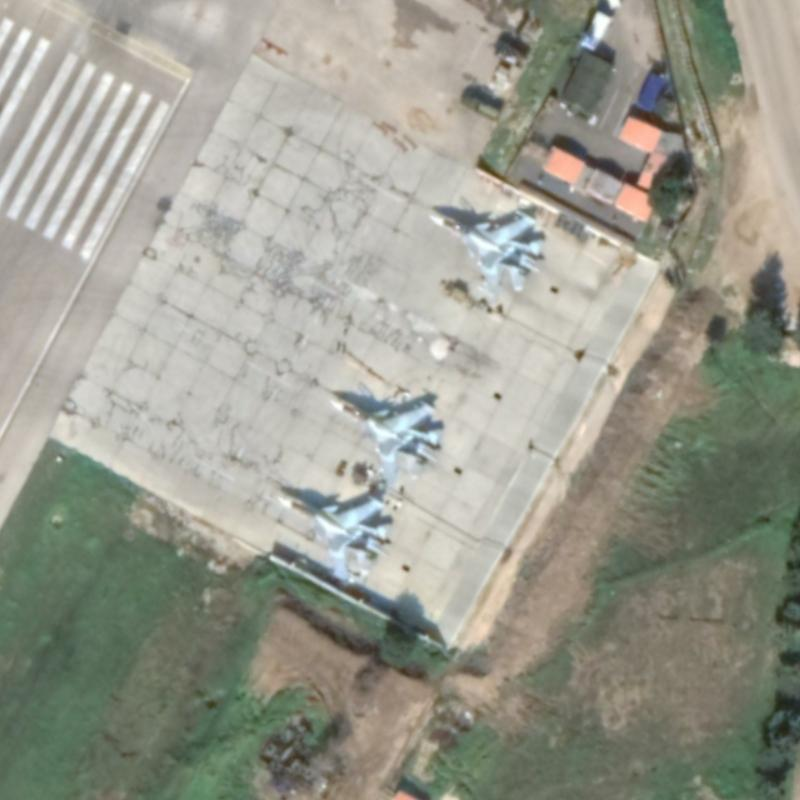A19: (419, 205, 554, 298), (276, 485, 396, 587), (322, 393, 447, 476)
